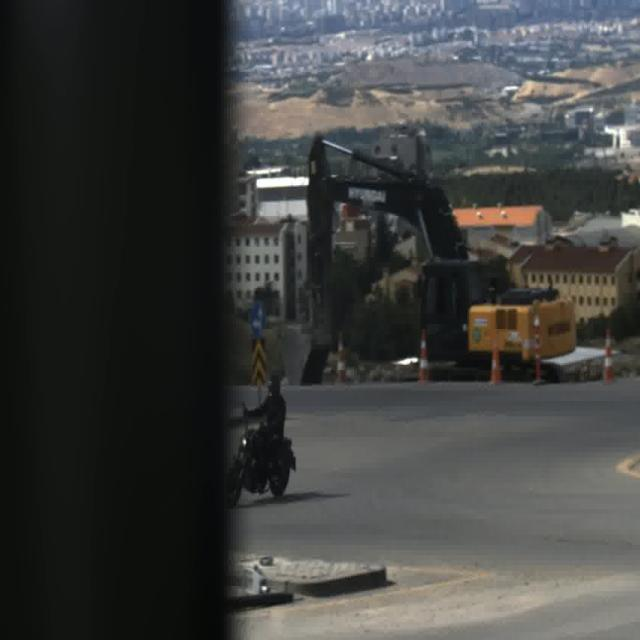Motorcycle: (227, 378, 298, 506)
